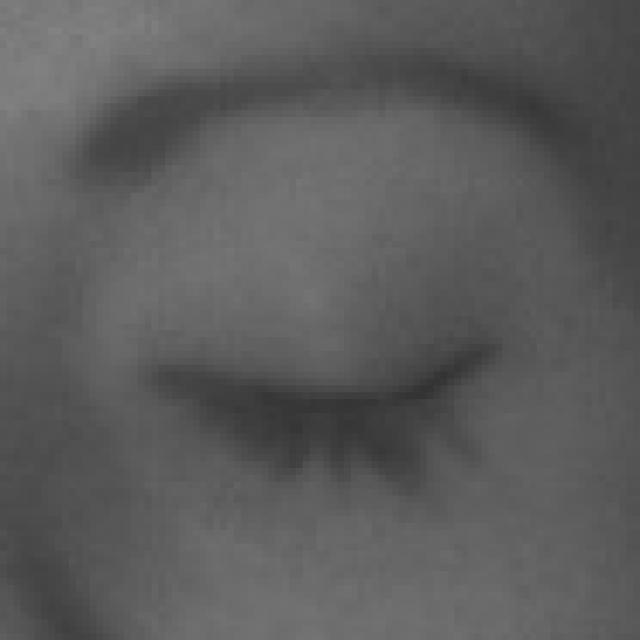close: (41, 21, 640, 544)
